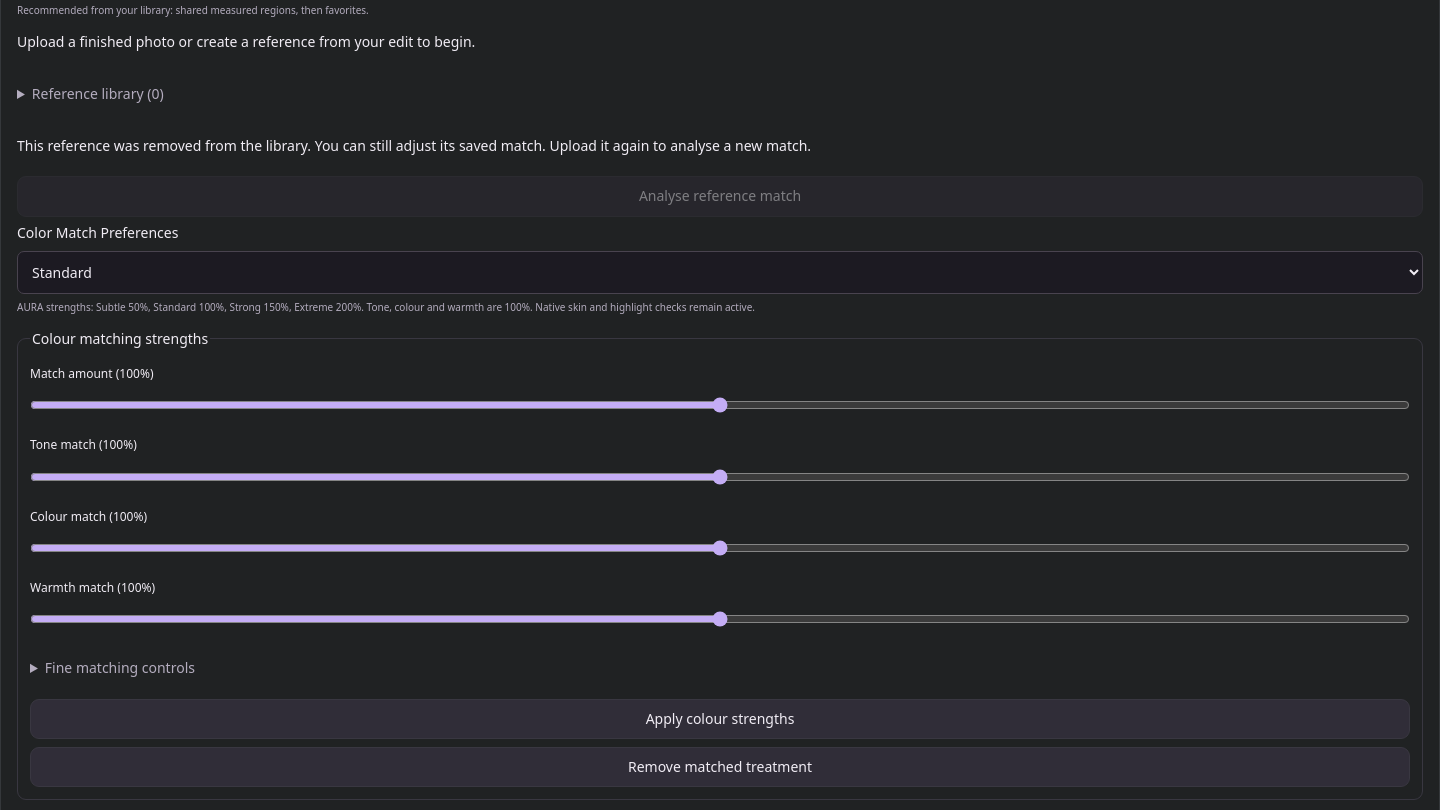
Test: keeps a saved match adjustable after its reference leaves the reusable library
(page scrolled)
Check: the button "Analyse reference match" is disabled, box x1=17 y1=176 x2=1423 y2=217
Set the slider labelled "Match amount" to "40" at [311, 405], box x1=30 y1=390 x2=1410 y2=420
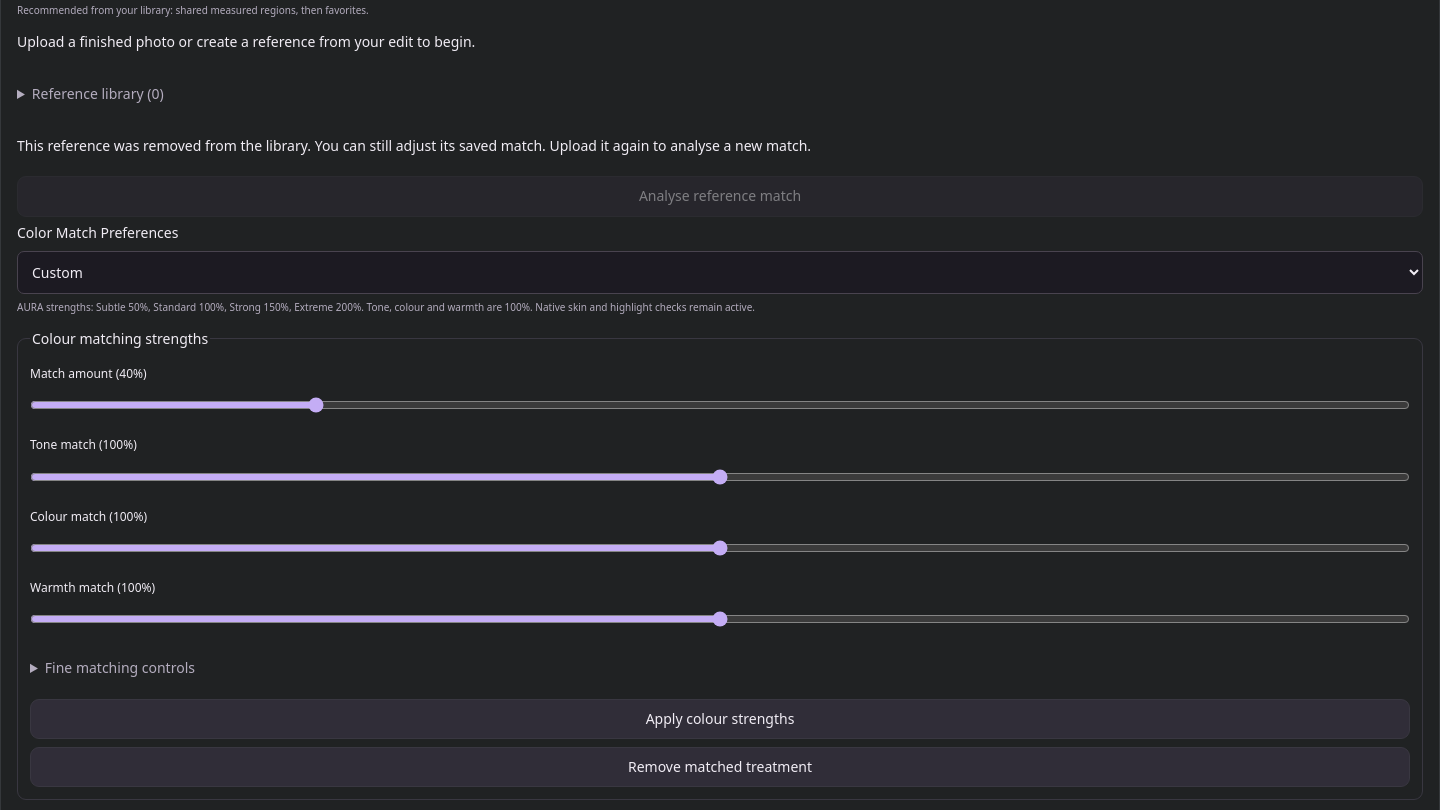
Click the button "Apply colour strengths" at [720, 719], box x1=30 y1=699 x2=1410 y2=739
(page scrolled)
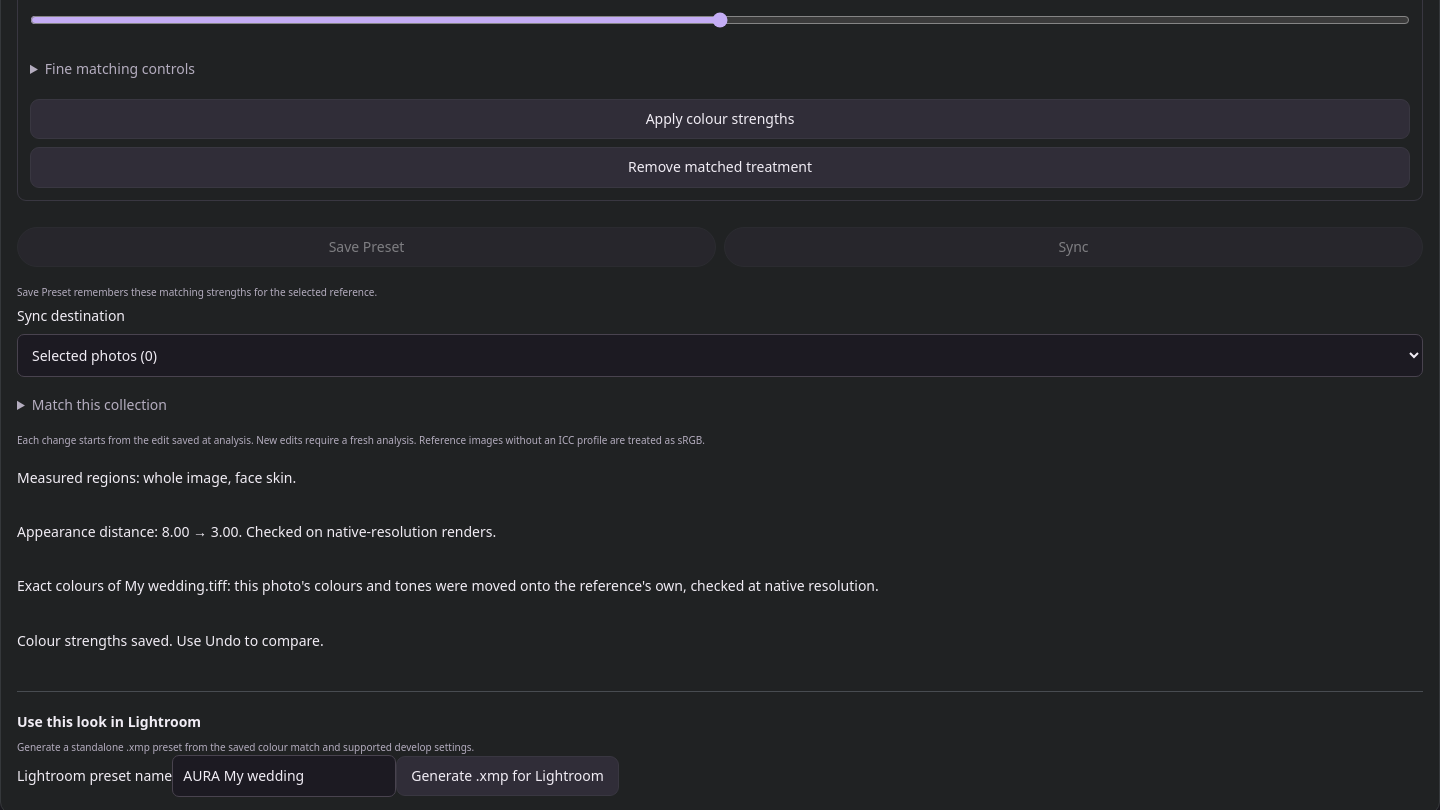
Click the heading "Match this collection" at [99, 404], box x1=32 y1=395 x2=167 y2=414
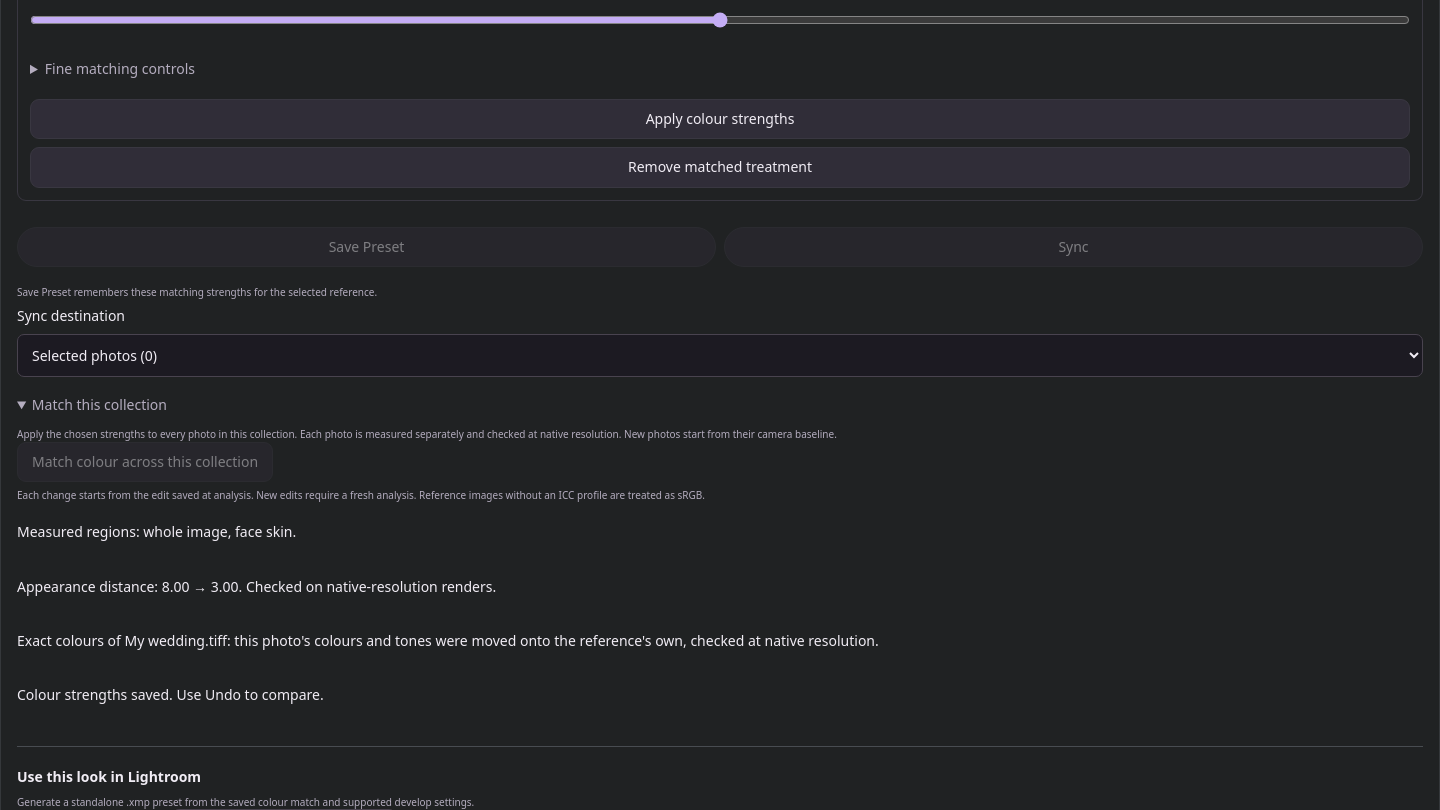
Check: the button "Match colour across this collection" is disabled, box x1=17 y1=442 x2=273 y2=482
